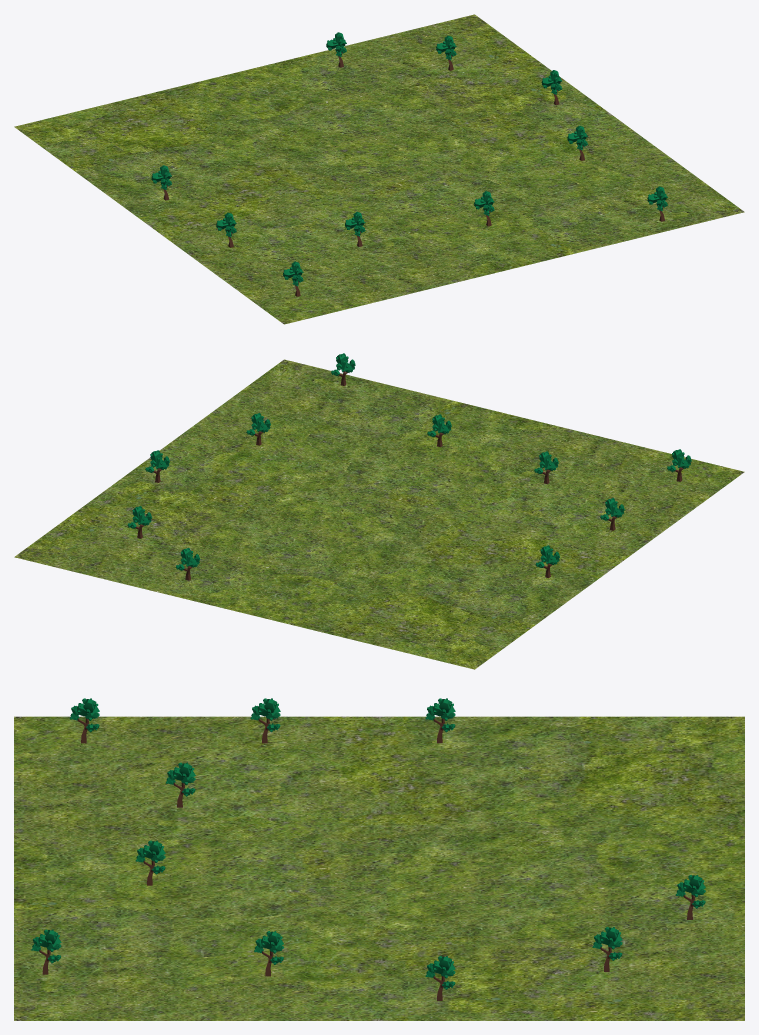
Rendered from PisoArboles.obj.
The picture shows the model from 3 angles, top to bottom: view 1: azimuth 30°, elevation 25°; view 2: azimuth 150°, elevation 25°; view 3: azimuth 270°, elevation 25°; orthographic projection. The views are drawn at different scales.
Visible parts, largest first — view 1: Piso1:pPlane1; view 2: Piso1:pPlane1; view 3: Piso1:pPlane1, Arbol8:pasted__tree_obj_Meshgroup35 pasted__pasted__pasted__past, Arbol4:pasted__tree_obj_Meshgroup35 pasted__group28 group29, Arbol2:pasted__tree_obj_Meshgroup35 group27, Arbol7:pasted__tree_obj_Meshgroup35 pasted__pasted__pasted__past, Arbol9:pasted__tree_obj_Meshgroup35 pasted__pasted__pasted__past, Arbol3:pasted__tree_obj_Meshgroup35 group28, Arbol10:pasted__tree_obj_Meshgroup35 pasted__pasted__pasted__pas, Arbol1:pasted__tree_obj_Meshgroup35, Arbol6:pasted__tree_obj_Meshgroup35 pasted__pasted__pasted__grou, Arbol5:pasted__tree_obj_Meshgroup35 pasted__pasted__group28 past.
Boxes of the visible parts, left/top/right/bottom form: Piso1:pPlane1: left=14, top=14, right=744, bottom=324; Piso1:pPlane1: left=14, top=359, right=744, bottom=669; Piso1:pPlane1: left=14, top=716, right=744, bottom=1020; Arbol8:pasted__tree_obj_Meshgroup35 pasted__pasted__pasted__past: left=69, top=698, right=99, bottom=743; Arbol4:pasted__tree_obj_Meshgroup35 pasted__group28 group29: left=254, top=931, right=283, bottom=976; Arbol2:pasted__tree_obj_Meshgroup35 group27: left=165, top=762, right=195, bottom=807; Arbol7:pasted__tree_obj_Meshgroup35 pasted__pasted__pasted__past: left=425, top=698, right=455, bottom=743; Arbol9:pasted__tree_obj_Meshgroup35 pasted__pasted__pasted__past: left=250, top=698, right=280, bottom=743; Arbol3:pasted__tree_obj_Meshgroup35 group28: left=31, top=929, right=61, bottom=974; Arbol10:pasted__tree_obj_Meshgroup35 pasted__pasted__pasted__pas: left=676, top=874, right=705, bottom=919; Arbol1:pasted__tree_obj_Meshgroup35: left=135, top=840, right=165, bottom=885; Arbol6:pasted__tree_obj_Meshgroup35 pasted__pasted__pasted__grou: left=425, top=956, right=455, bottom=1000; Arbol5:pasted__tree_obj_Meshgroup35 pasted__pasted__group28 past: left=592, top=927, right=622, bottom=971.
Bounding box in the file's own units: 272 × 18.34 × 276.
Materials: 21 (21 with a texture image).
